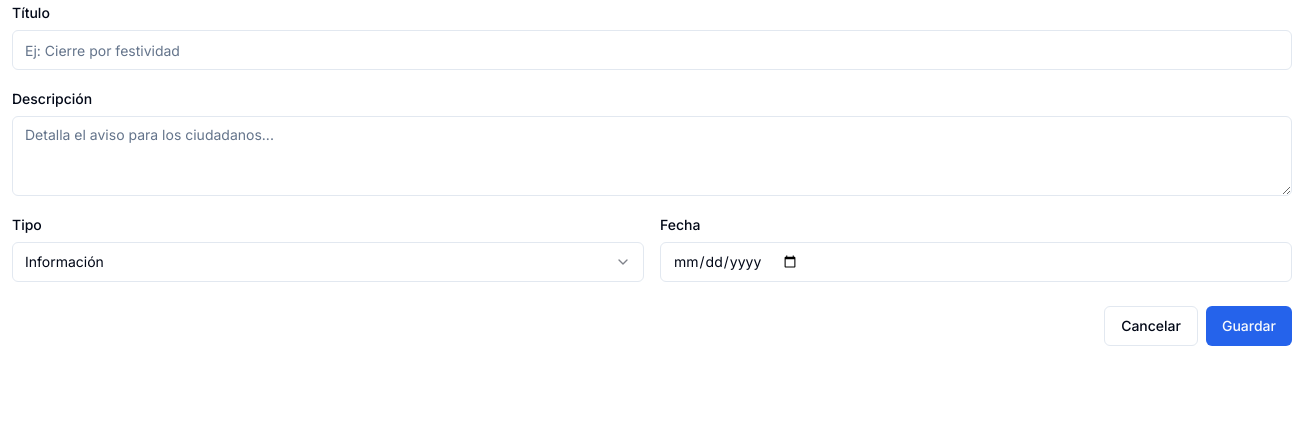
Test: FormularioAviso › debería mostrar error si se envía sin título
// Enviar sin rellenar el título
Click the button "Guardar" at coordinates (1249, 326), box top-left (1206, 306), bottom-right (1292, 346)
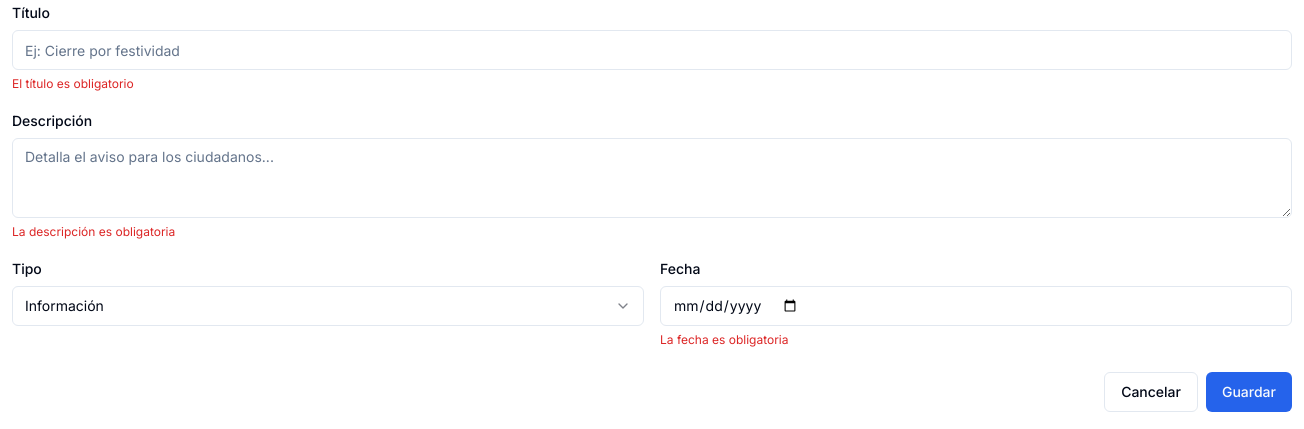
Check: the text "El título es obligatorio" is shown, box top-left (12, 76), bottom-right (134, 91)
